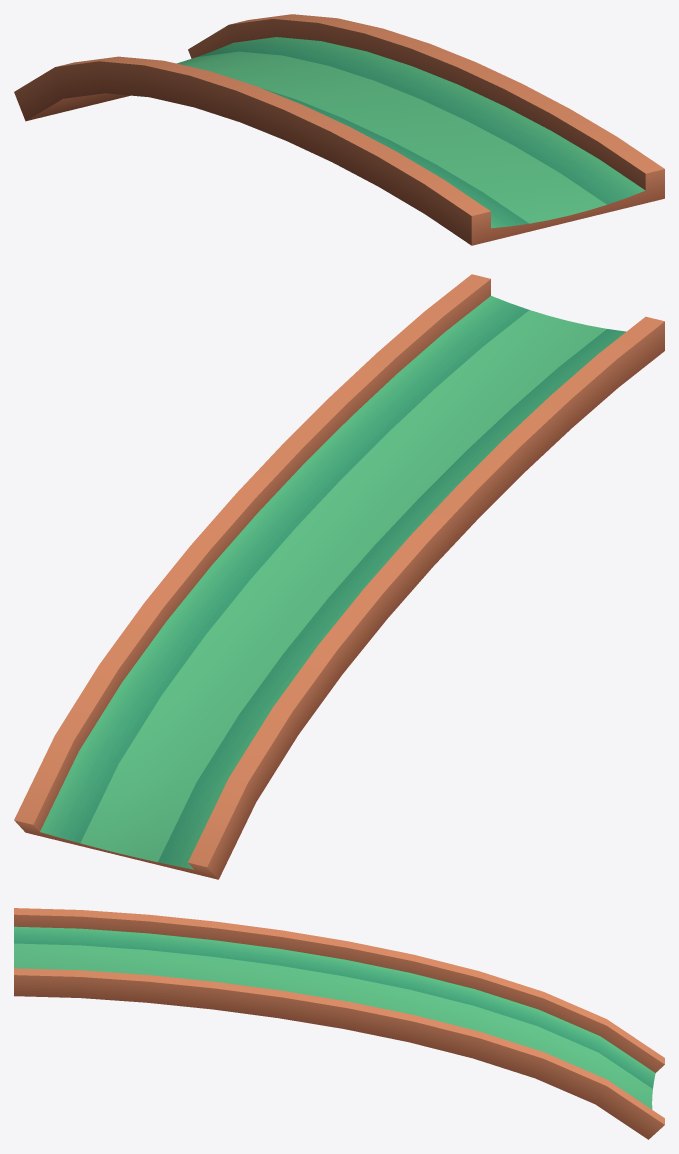
Rendered from spline-concave-straight-hill-end.glb.
3 views of the same model, one above another, from view 1: azimuth 30°, elevation 25°; view 2: azimuth 150°, elevation 25°; view 3: azimuth 270°, elevation 25° (orthographic). The views are drawn at different scales.
Parts seen in each view (by area): view 1: spline-concave-straight-hill-end; view 2: spline-concave-straight-hill-end; view 3: spline-concave-straight-hill-end.
Part boxes in pixels (left/top/right/bottom): spline-concave-straight-hill-end: left=14, top=14, right=664, bottom=245; spline-concave-straight-hill-end: left=14, top=274, right=664, bottom=879; spline-concave-straight-hill-end: left=14, top=908, right=664, bottom=1139.
Size of the model in its own units: 0.9999 by 1.15 by 4.1.
1 material, 1 textured.
